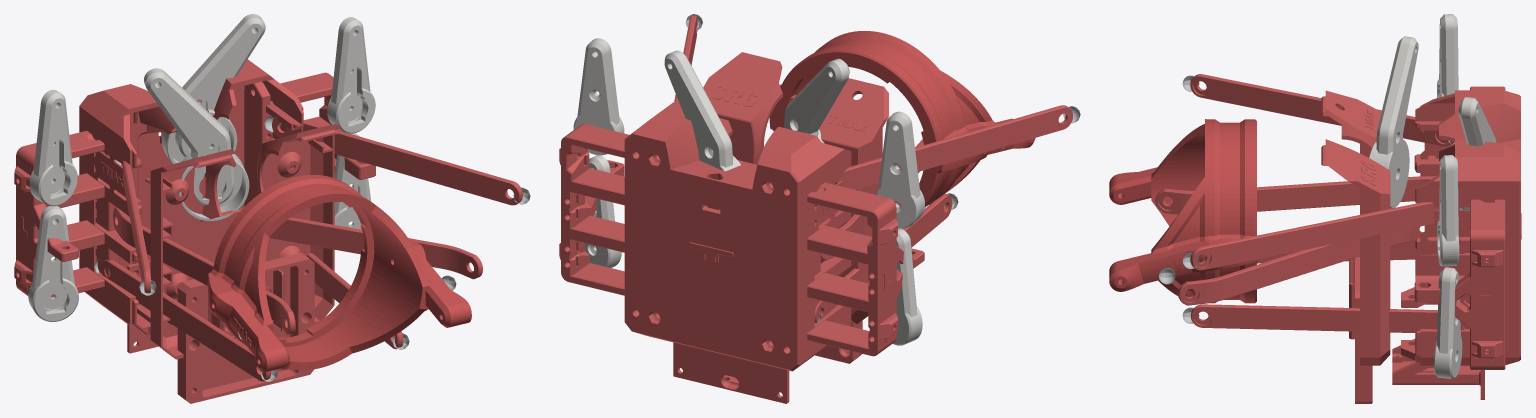
Rendered from ORS6_assembled.glb.
3 renders of one model, left to right at view 1: azimuth 30°, elevation 25°; view 2: azimuth 150°, elevation 25°; view 3: azimuth 270°, elevation 25°, orthographic. The views are drawn at different scales.
Visible parts, largest first — view 1: Receiver, Base, Lid, Shield, L_Frame, L_Pitcher, Rod_LowerRight, R_Pitcher, R_Frame, Arm_LowerLeft, Arm_LowerRight, Arm_UpperLeft (+7 smaller); view 2: Base, Receiver, L_Frame, Lid, R_Frame, Rod_LowerLeft, Tray, R_Pitcher, Arm_LowerLeft, Arm_LowerRight, L_Pitcher, Arm_UpperLeft (+5 smaller); view 3: Receiver, Base, Lid, R_Frame, Rod_LowerRight, Rod_UpperRight, Rod_RightPitch, L_Pitcher, Rod_LowerLeft, Rod_LeftPitch, Arm_UpperRight, Arm_LowerRight (+5 smaller).
Part boxes in pixels (x1,y1,x2,y2): Receiver: [207, 175, 471, 372]; Base: [79, 59, 303, 336]; Lid: [150, 123, 340, 359]; Shield: [177, 253, 314, 403]; L_Frame: [14, 130, 119, 297]; L_Pitcher: [144, 68, 249, 221]; Rod_LowerRight: [272, 116, 522, 205]; R_Pitcher: [161, 14, 265, 164]; R_Frame: [244, 72, 375, 206]; Arm_LowerLeft: [29, 89, 77, 206]; Arm_LowerRight: [327, 17, 375, 133]; Arm_UpperLeft: [28, 206, 78, 321]; Base: [624, 101, 851, 371]; Receiver: [769, 31, 1035, 207]; L_Frame: [807, 182, 924, 356]; Lid: [703, 52, 888, 324]; R_Frame: [559, 124, 629, 295]; Rod_LowerLeft: [835, 105, 1072, 189]; Tray: [673, 342, 789, 403]; R_Pitcher: [664, 50, 740, 206]; Arm_LowerLeft: [875, 111, 924, 228]; Arm_LowerRight: [573, 38, 624, 155]; L_Pitcher: [784, 58, 849, 142]; Arm_UpperLeft: [892, 228, 922, 345]; Receiver: [1109, 119, 1256, 303]; Base: [1401, 90, 1520, 365]; Lid: [1321, 90, 1390, 365]; R_Frame: [1414, 199, 1505, 369]; Rod_LowerRight: [1190, 202, 1439, 270]; Rod_UpperRight: [1191, 304, 1469, 332]; Rod_RightPitch: [1177, 226, 1423, 305]; L_Pitcher: [1369, 36, 1418, 208]; Rod_LowerLeft: [1190, 74, 1453, 146]; Rod_LeftPitch: [1155, 176, 1434, 214]; Arm_UpperRight: [1433, 267, 1462, 378]; Arm_LowerRight: [1437, 155, 1459, 266].
Bounding box in the file's own units: 260 × 202 × 246.
